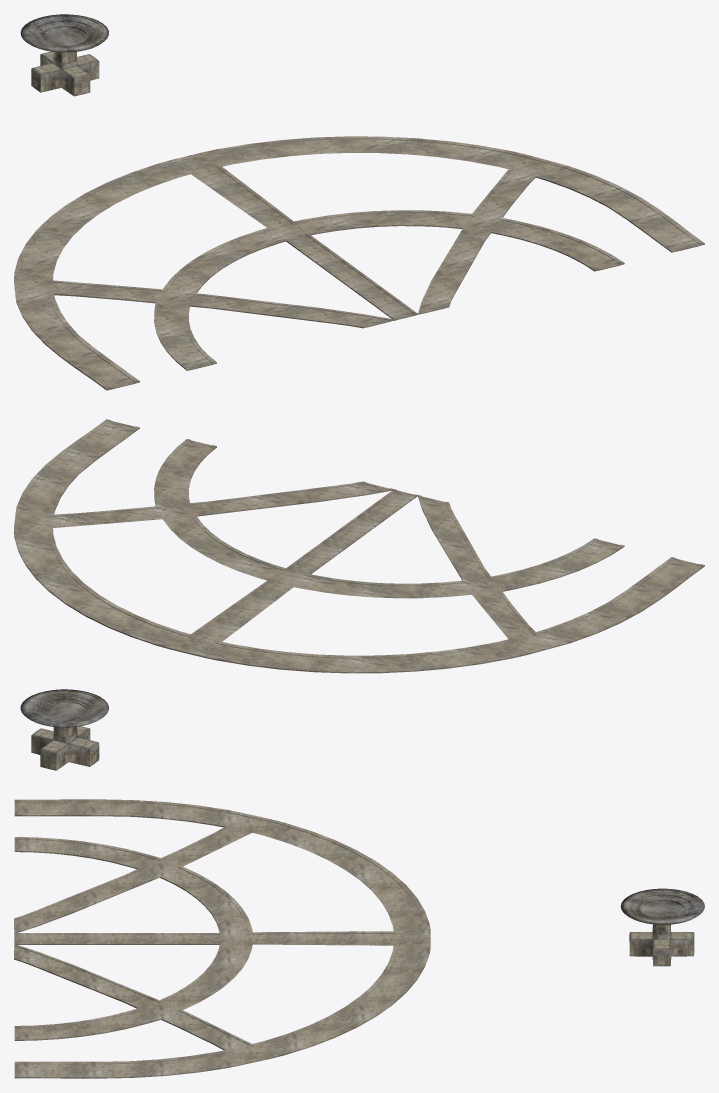
The model's file is park.FBX.
3 views of the same model, one above another, from view 1: azimuth 30°, elevation 25°; view 2: azimuth 150°, elevation 25°; view 3: azimuth 270°, elevation 25° (orthographic). The views are drawn at different scales.
Visible parts, largest first — view 1: Tube002; view 2: Tube002; view 3: Tube002.
Boxes of the visible parts, x1,y1,x2,y2 form: Tube002: [14, 14, 704, 390]; Tube002: [14, 419, 704, 770]; Tube002: [14, 799, 704, 1078].
Size of the model in its own units: 457 by 36.29 by 480.
